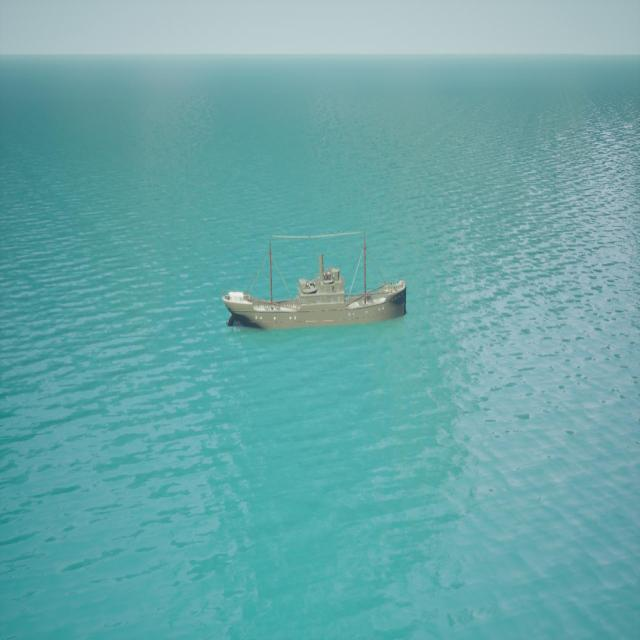fishing ship: (224, 234, 408, 333)
